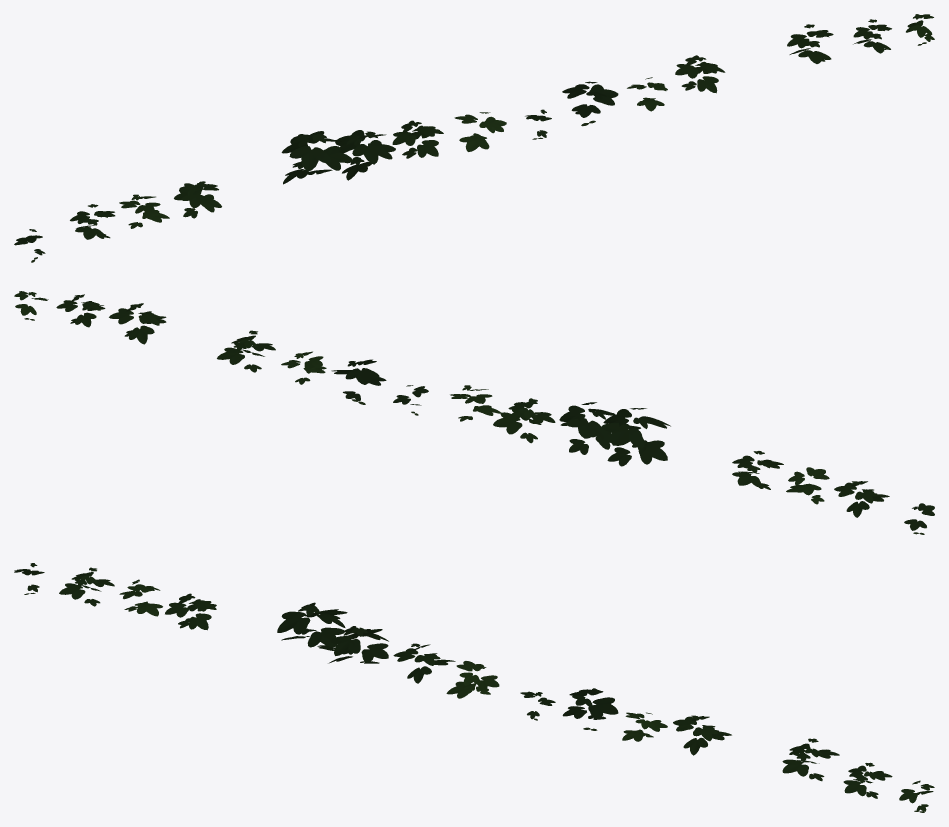
Rendered from ROW_21_SEG2_foliage.dae.
3 renders of one model, top to bottom at view 1: azimuth 30°, elevation 25°; view 2: azimuth 150°, elevation 25°; view 3: azimuth 330°, elevation 25°, orthographic.
Parts seen in each view (by area): view 1: ROW_21_SEG2_foliage; view 2: ROW_21_SEG2_foliage; view 3: ROW_21_SEG2_foliage.
Part boxes in pixels (box(x1,y1,x2,y2)): ROW_21_SEG2_foliage: box(14, 14, 934, 262); ROW_21_SEG2_foliage: box(14, 291, 934, 534); ROW_21_SEG2_foliage: box(14, 563, 934, 812).
Size of the model in its own units: 5.01 by 0.385 by 0.3113.
